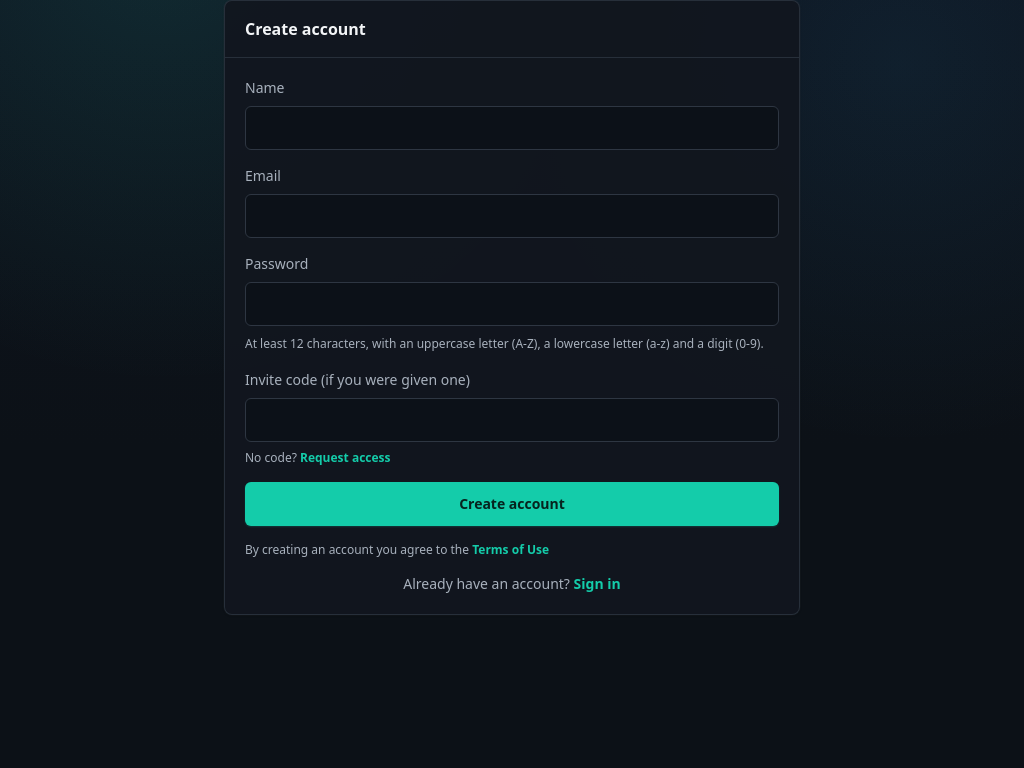
AuthPanel after a successful sign-up › stays on the form when the sign-up fails
The image size is (1024, 768).
Type "Sara Ahmadi" into the field labelled "Name".
click(512, 128); type("Sara Ahmadi")  # box [245,106,779,150]
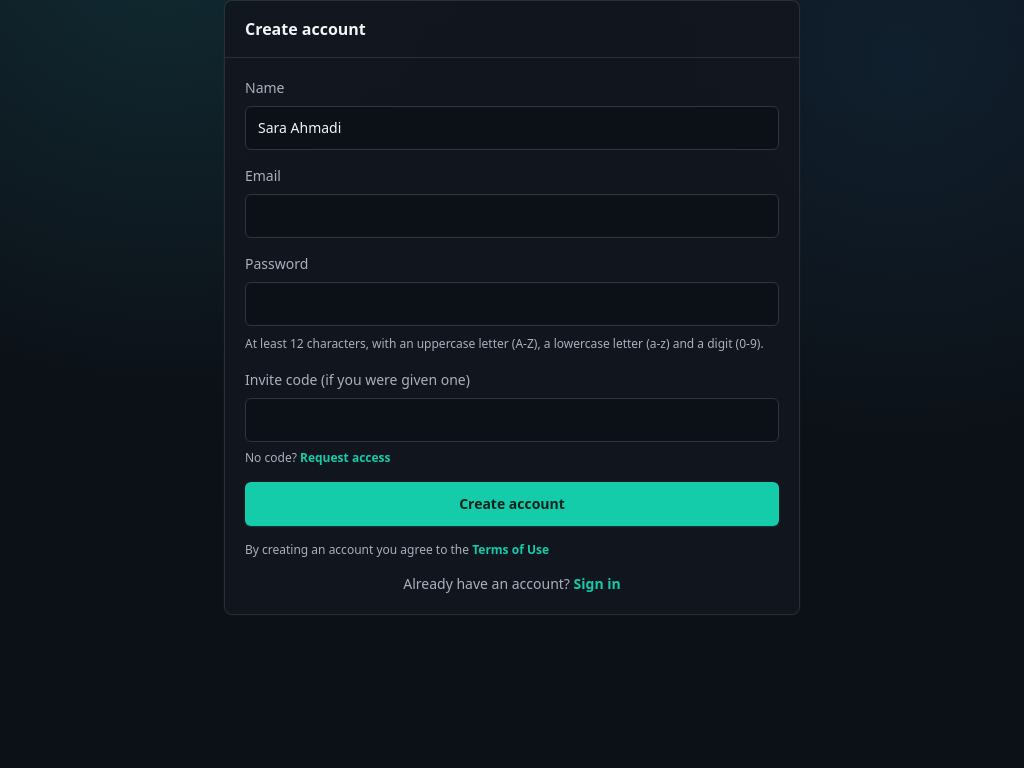
Type "sara@example.com" into the field labelled "Email".
click(512, 216); type("sara@example.com")  # box [245,194,779,238]
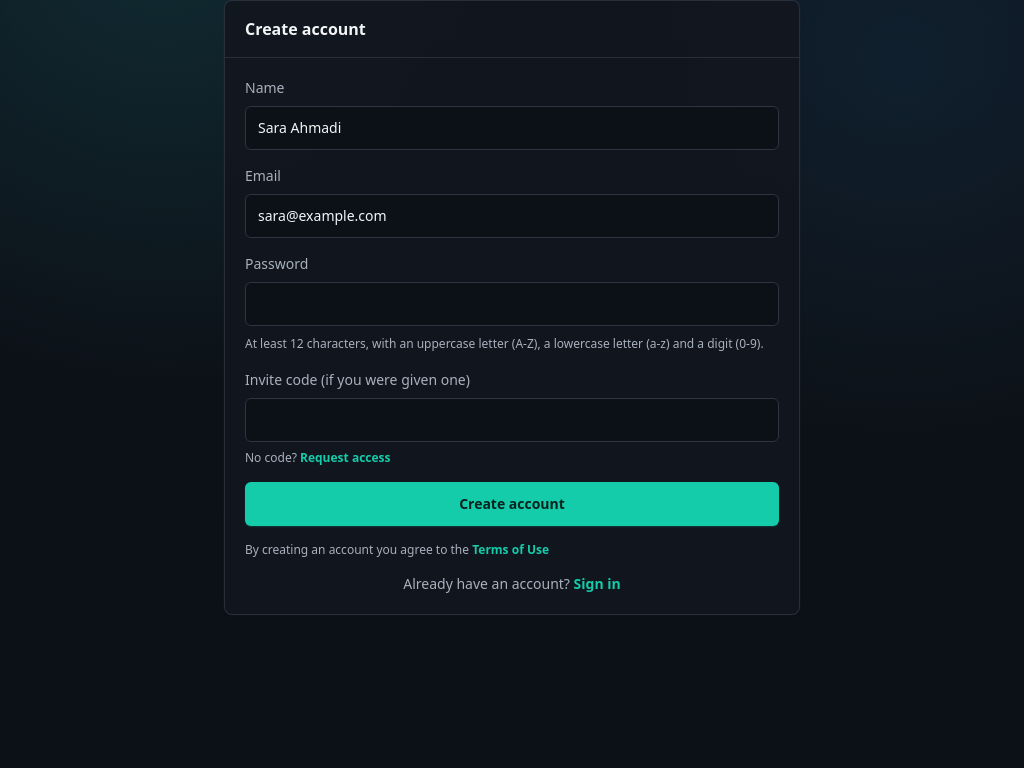
Type "Password1abcd" into the password field labelled "Password".
click(512, 304); type("Password1abcd")  # box [245,282,779,326]
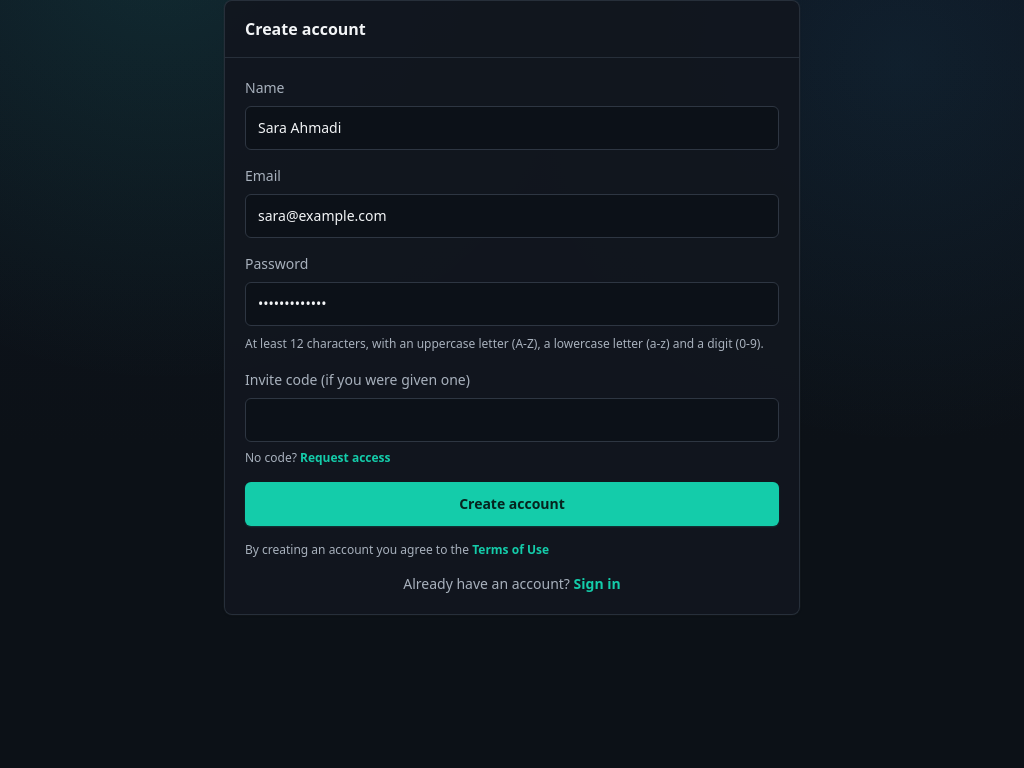
Click the button "Create account".
click(512, 504)  # box [245,482,779,526]
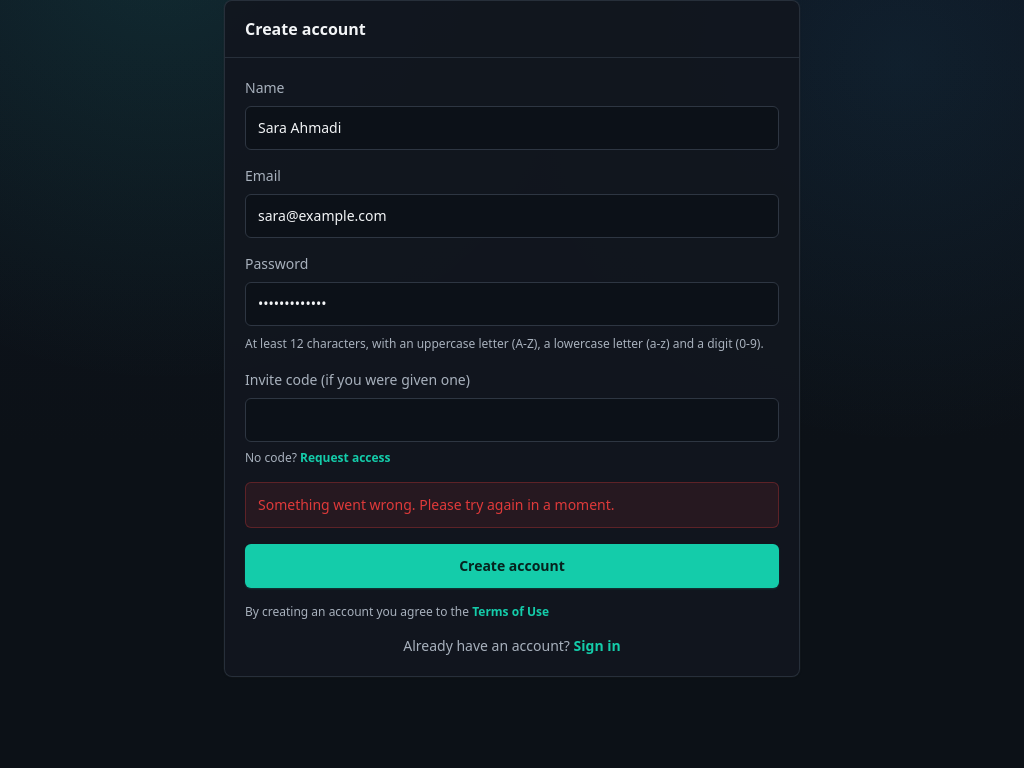
Result: the message "Something went wrong. Please try again in a moment." is shown at [245,482,779,528]
